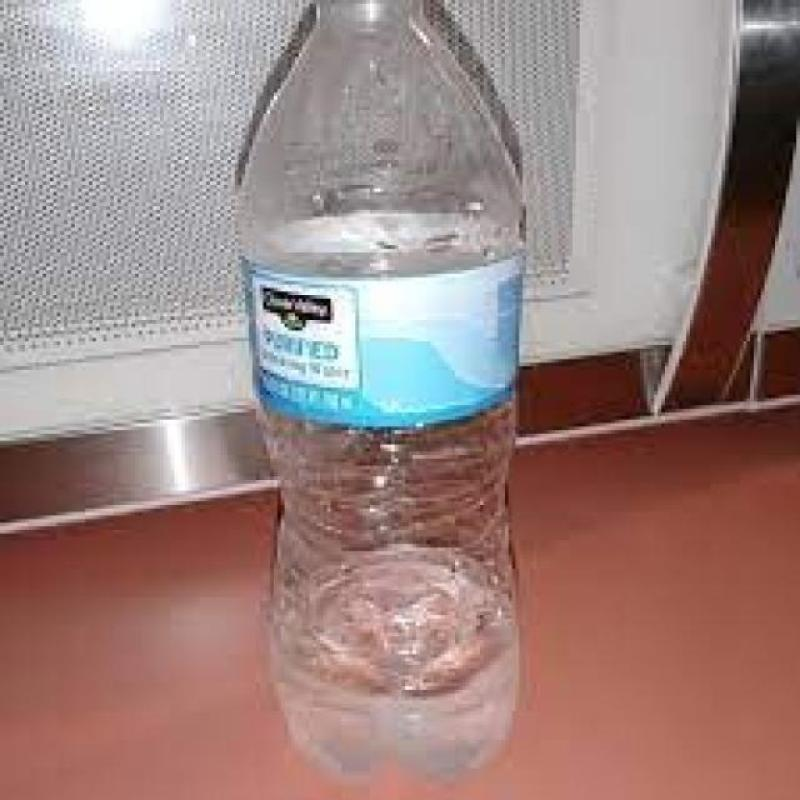botella: (237, 0, 528, 782)
